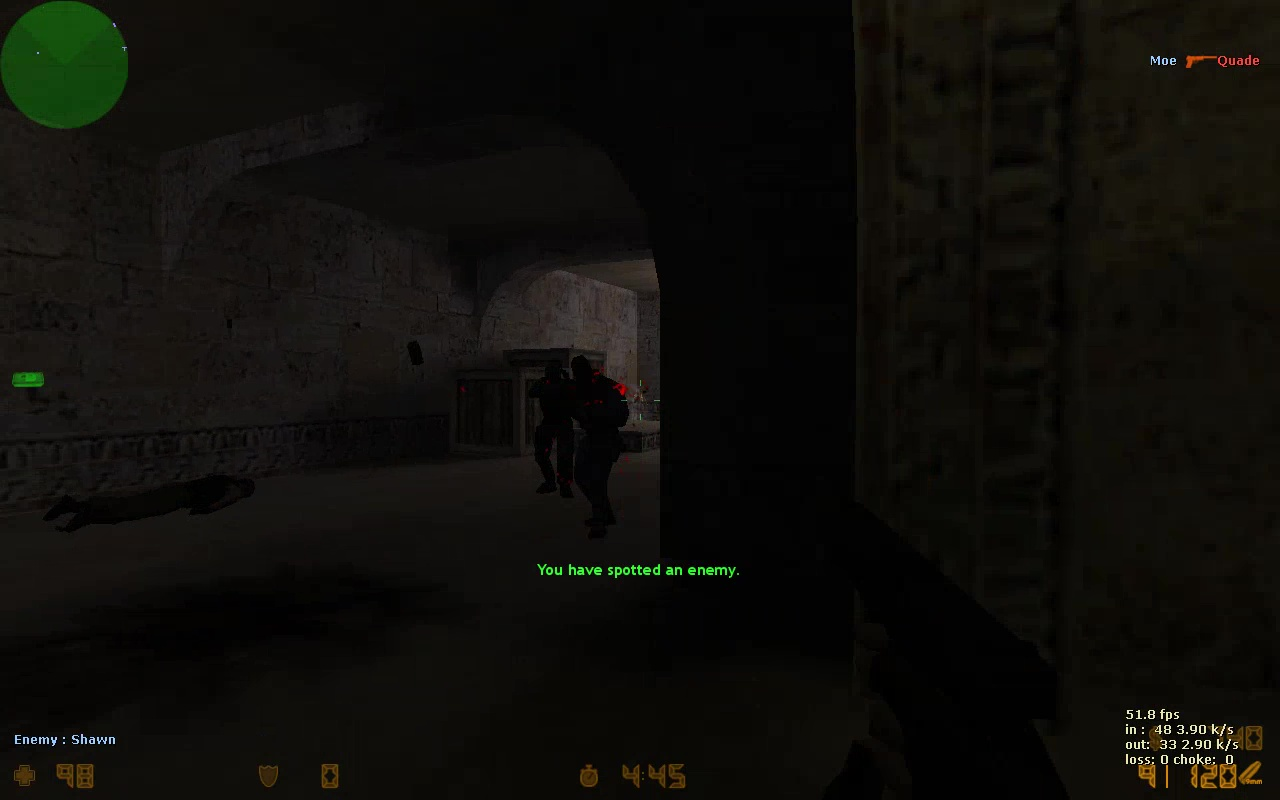ct: (562, 357, 628, 544), (533, 367, 574, 492)
dead: (50, 471, 252, 536)
